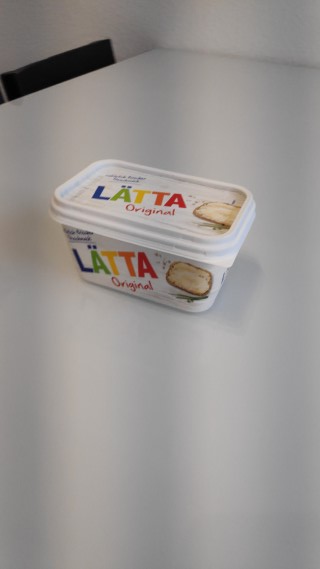laetta: (48, 157, 257, 314)
